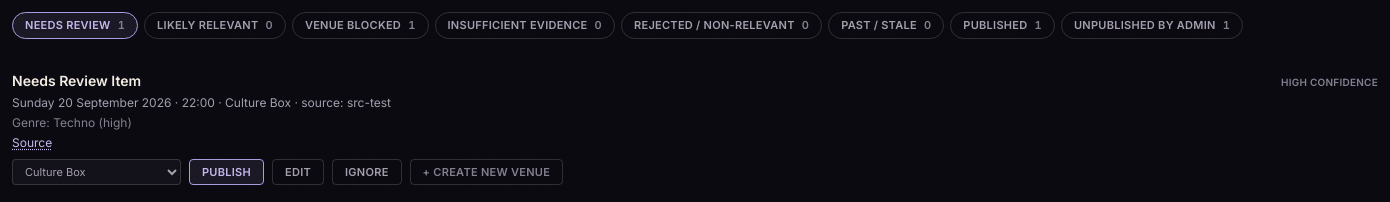
Scenario: AdminQueueTabs › switches to the Venue blocked tab and shows only that group's rows
Click the tab "Venue blocked 1" at coordinates (360, 25), box [292,12,428,38]
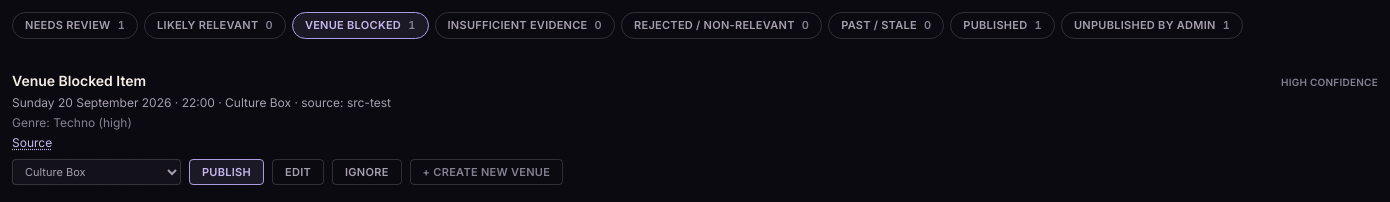
Expected: the text "Venue Blocked Item" is shown, [12,70,146,90]
Expected: the text "Needs Review Item" is gone
